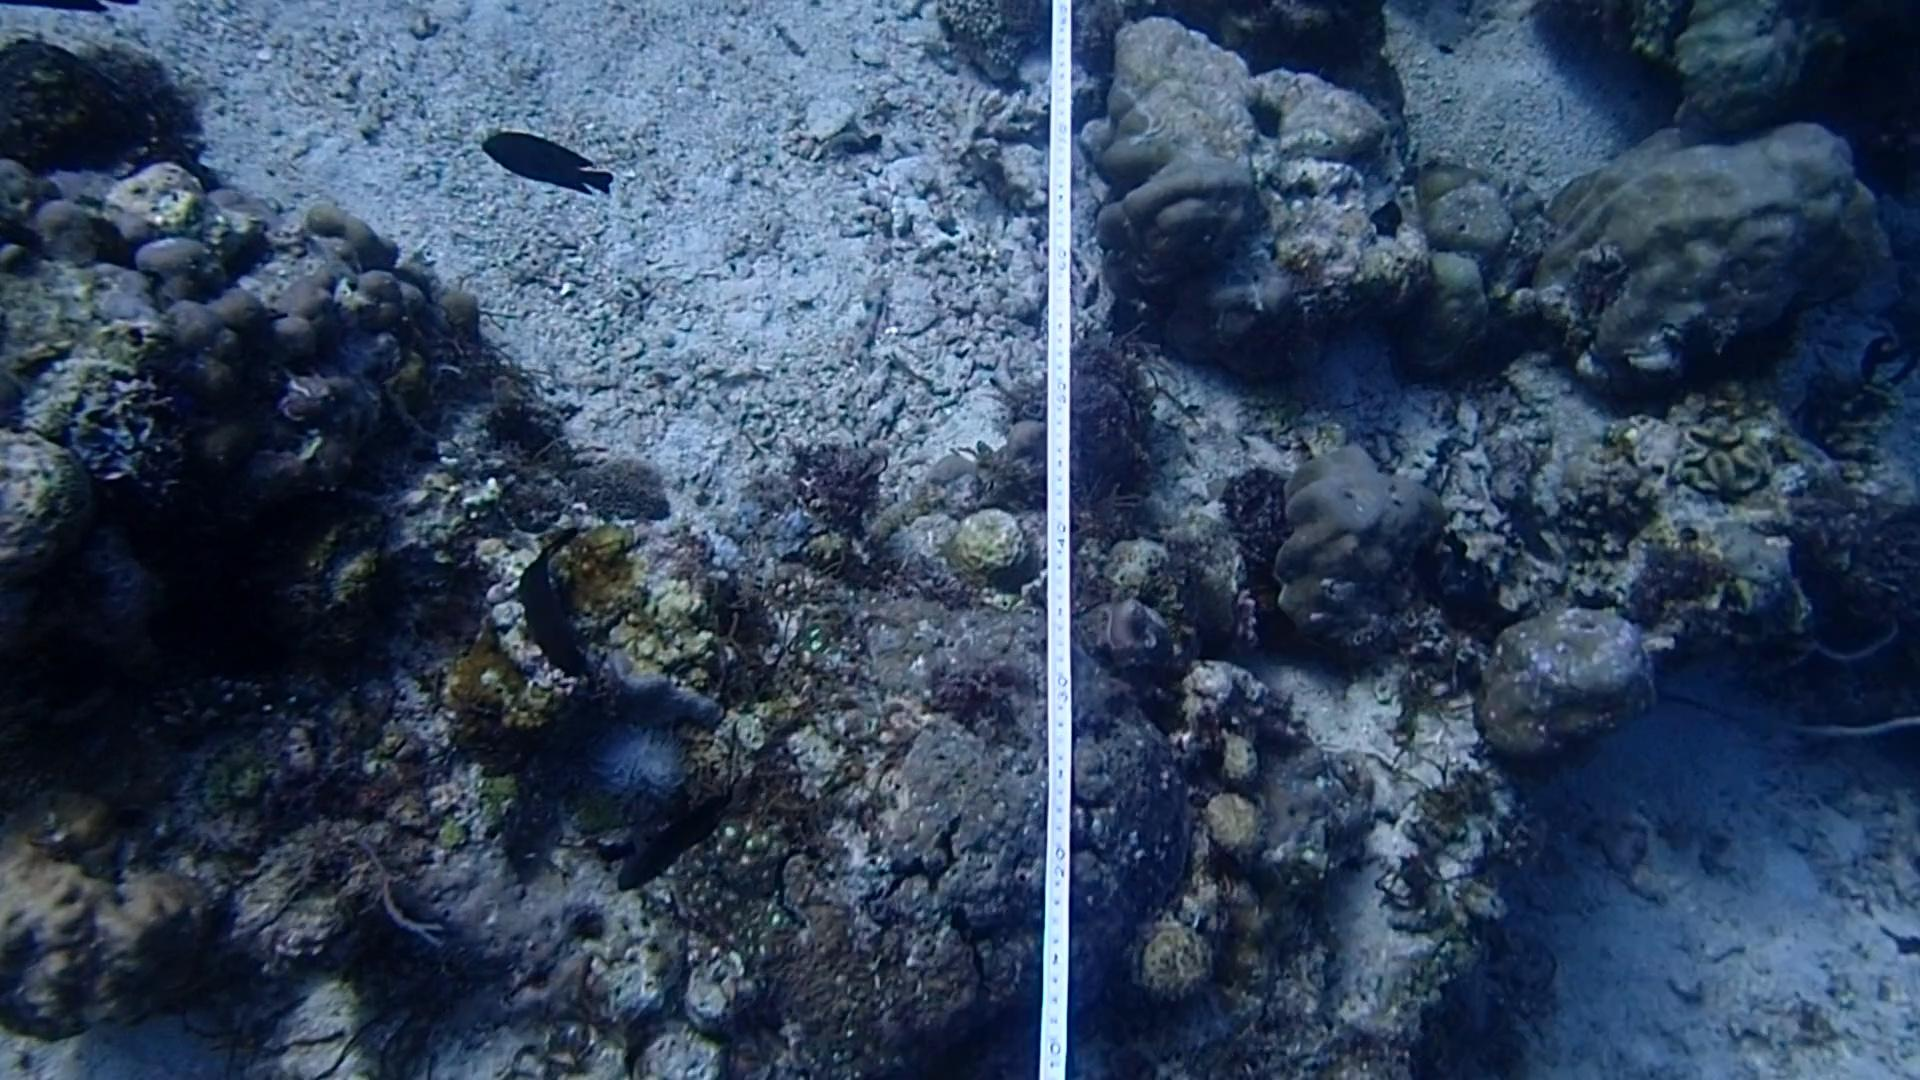Dark Fish: (473, 518, 630, 686), (588, 779, 758, 895), (468, 111, 615, 212)
